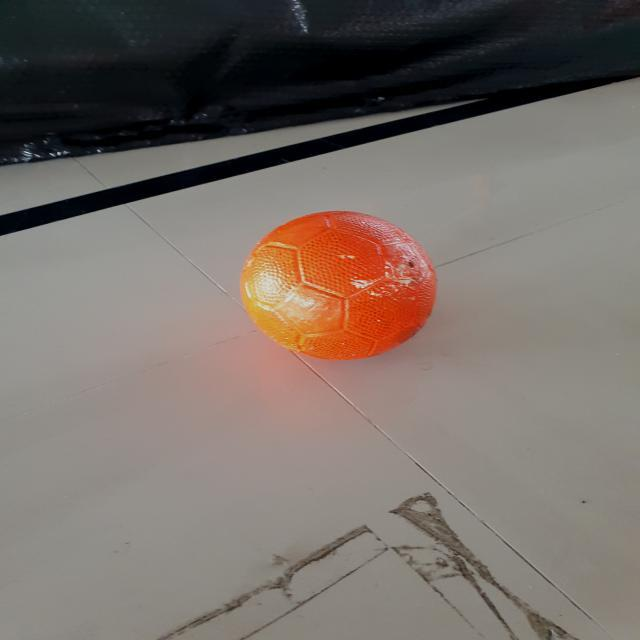bola: (226, 205, 454, 366)
